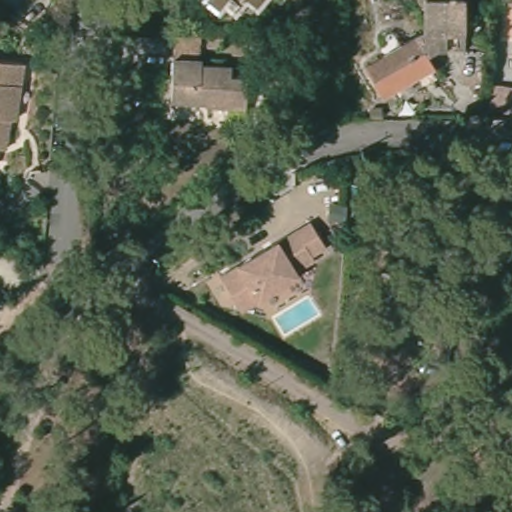pool: (271, 296, 321, 338)
